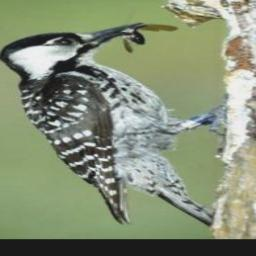Woodpecker: (0, 22, 214, 229)
